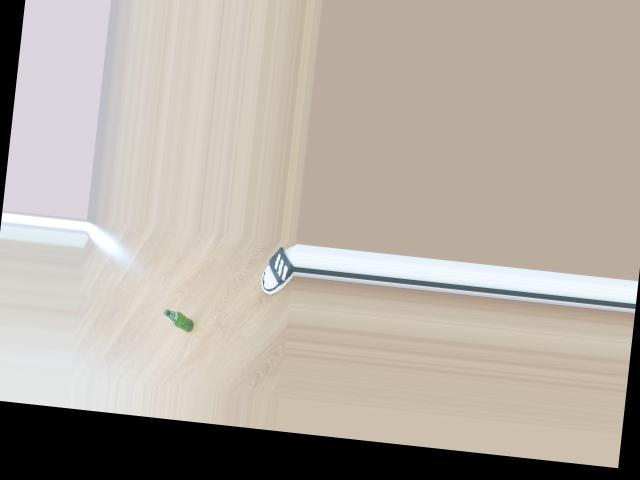beer: (163, 308, 194, 331)
